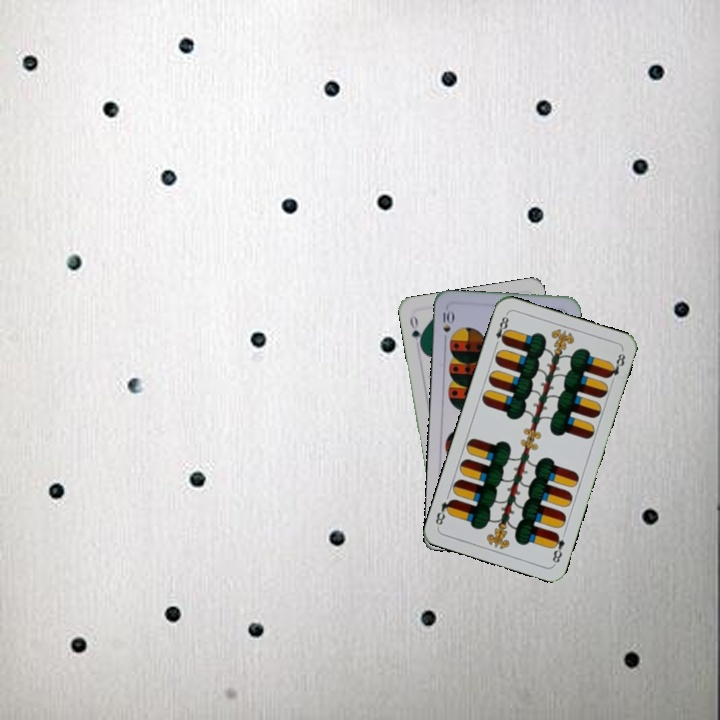E8: (491, 310, 511, 350), (548, 529, 567, 566)
GO: (406, 311, 425, 351)
S10: (439, 307, 456, 345)
